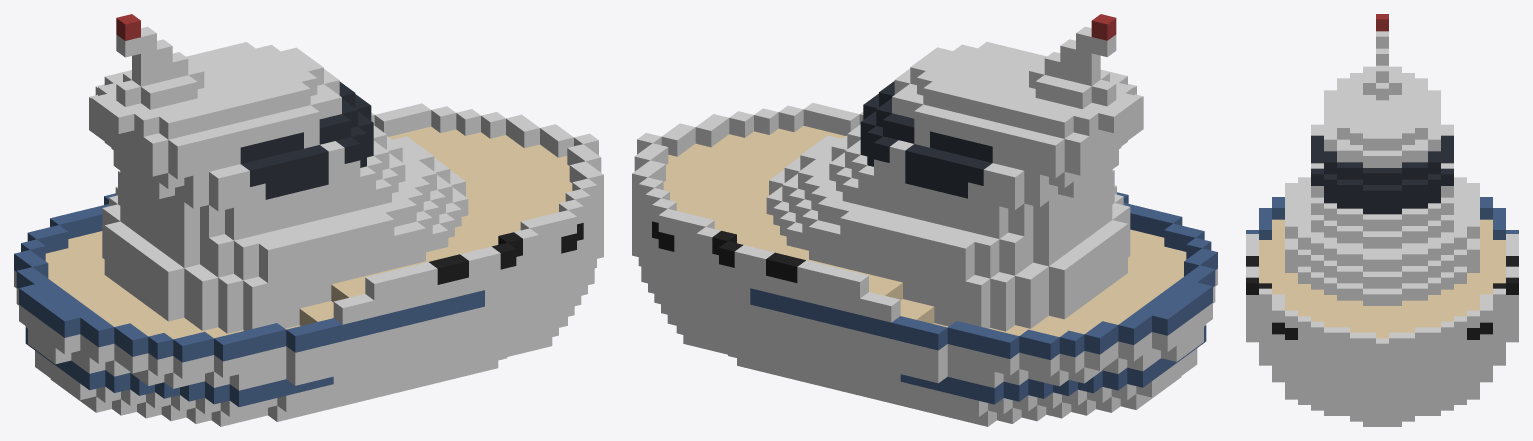
Rendered from big yacht.obj.
3 views of the same model, side by side, from view 1: azimuth 30°, elevation 25°; view 2: azimuth 150°, elevation 25°; view 3: azimuth 270°, elevation 25° (orthographic). The views are drawn at different scales.
Size of the model in its own units: 3.5 by 2.2 by 2.1.
1 material, 1 textured.
